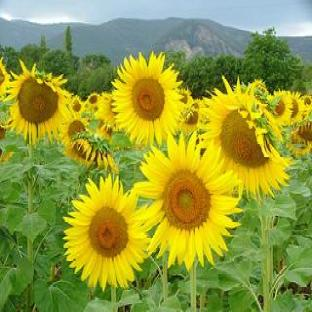sunflower: (132, 134, 242, 272), (63, 176, 152, 291), (110, 52, 187, 148)
